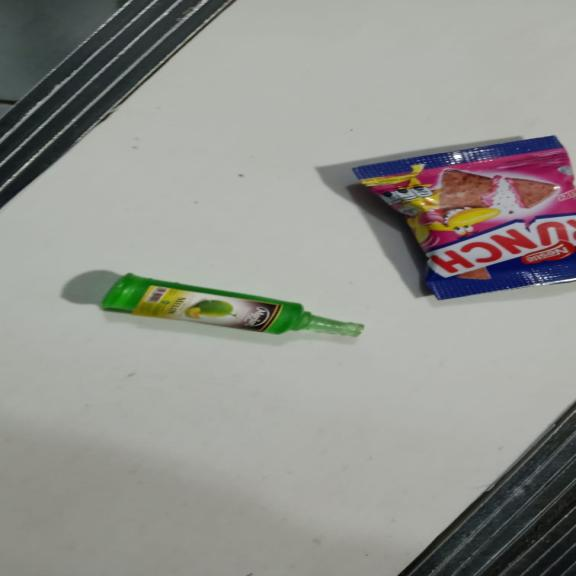Plastik: (352, 134, 576, 301), (100, 273, 367, 336)
